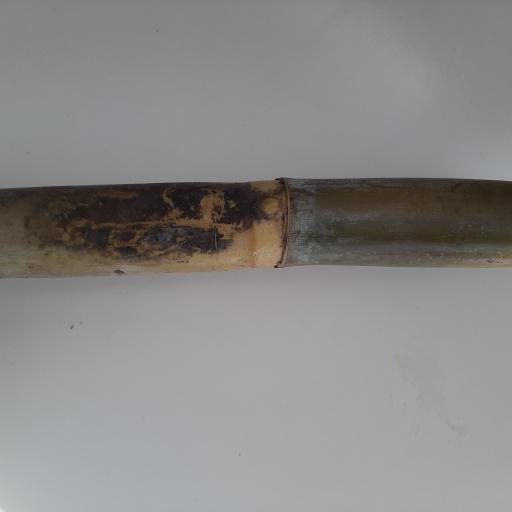Bud: (253, 194, 281, 218)
